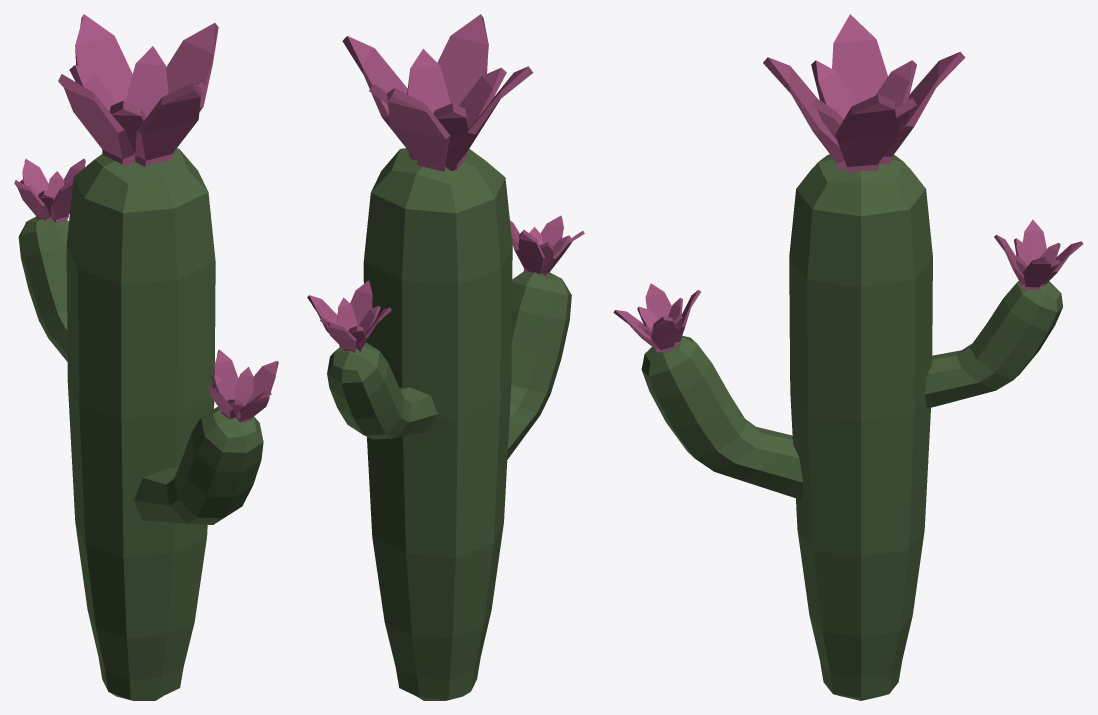
Rendered from CactusFlowers_3.gltf.
3 views of the same model, side by side, from view 1: azimuth 30°, elevation 25°; view 2: azimuth 150°, elevation 25°; view 3: azimuth 270°, elevation 25° (orthographic).
Parts seen in each view (by area): view 1: CactusFlowers_3; view 2: CactusFlowers_3; view 3: CactusFlowers_3.
Part boxes in pixels (bbox=[...]): CactusFlowers_3: bbox=[14, 14, 278, 700]; CactusFlowers_3: bbox=[307, 14, 584, 700]; CactusFlowers_3: bbox=[613, 14, 1083, 700].
Size of the model in its own units: 0.4774 by 1.67 by 1.12.
